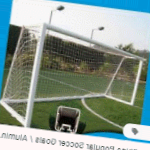goals: (3, 20, 144, 126)
